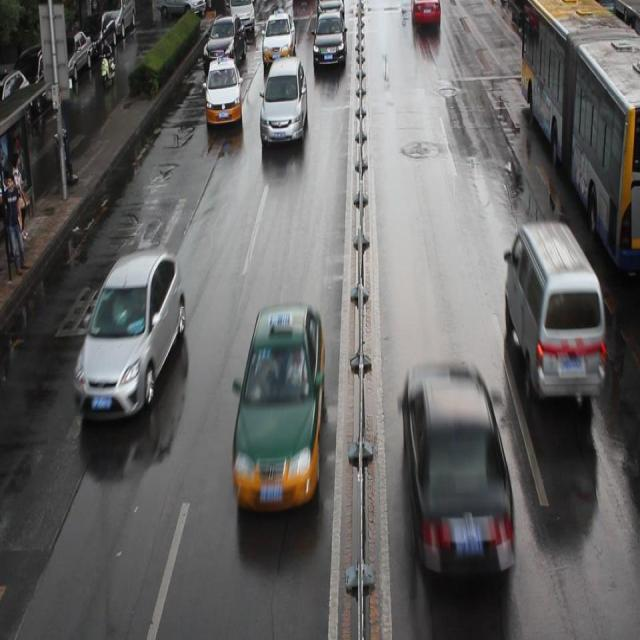car: (401, 362, 516, 567), (231, 302, 326, 512), (73, 245, 186, 421), (205, 59, 242, 124), (202, 14, 247, 66), (312, 11, 347, 66), (261, 11, 295, 65), (220, 1, 255, 31), (410, 1, 441, 24), (316, 1, 346, 20)
truck: (504, 218, 606, 397), (259, 57, 308, 143)
van: (518, 1, 640, 272)
